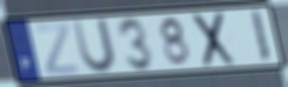3: (116, 16, 155, 73)
8: (158, 16, 192, 68)
I: (249, 8, 273, 65)
U: (70, 16, 119, 76)
X: (191, 10, 237, 70)
Z: (33, 22, 80, 76)
